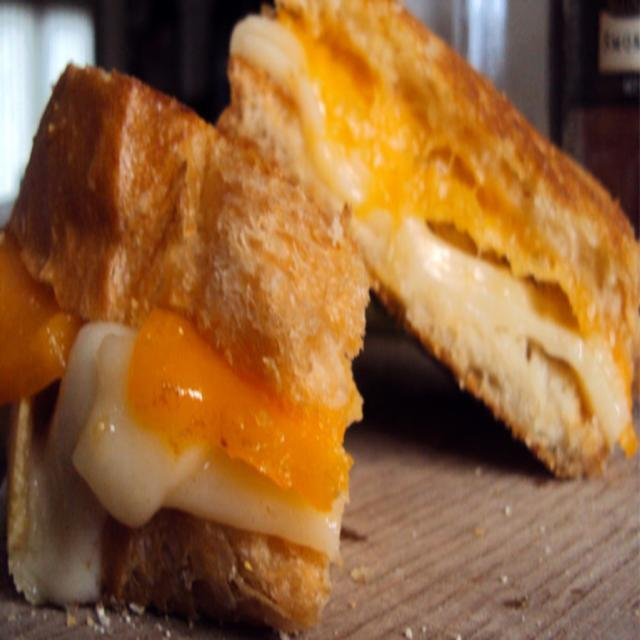Sandwich: (0, 77, 370, 634), (216, 0, 639, 473)
